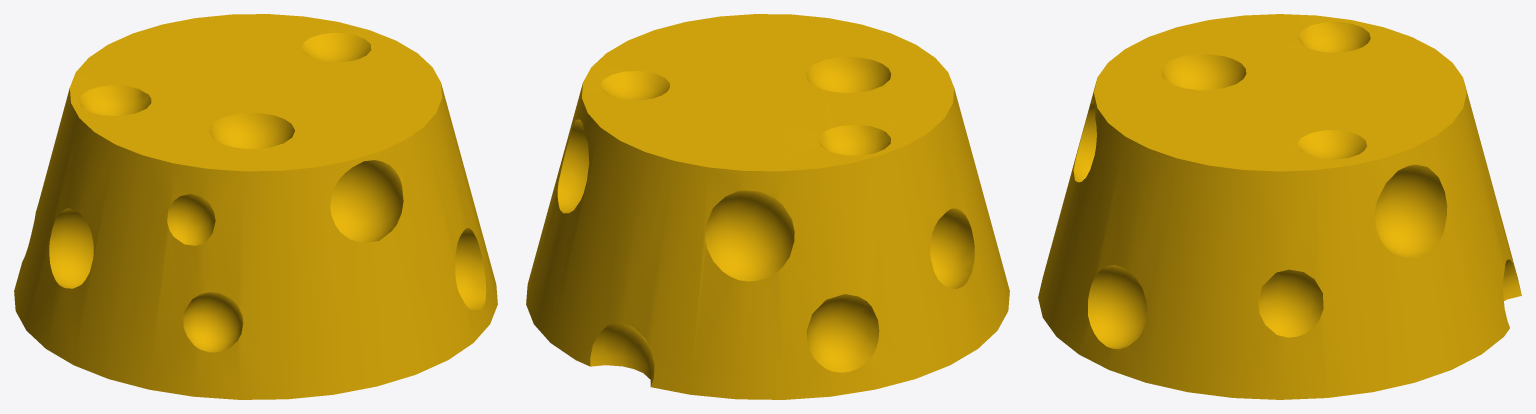
Rendered from Cheeze.fbx.
3 renders of one model, left to right at view 1: azimuth 30°, elevation 25°; view 2: azimuth 150°, elevation 25°; view 3: azimuth 270°, elevation 25°, orthographic.
Visible parts, largest first — view 1: Swiss Cheese_Swiss Cheese Color_0; view 2: Swiss Cheese_Swiss Cheese Color_0; view 3: Swiss Cheese_Swiss Cheese Color_0.
Part boxes in pixels (<box>): Swiss Cheese_Swiss Cheese Color_0: <box>14,14,497,399</box>; Swiss Cheese_Swiss Cheese Color_0: <box>526,14,1009,399</box>; Swiss Cheese_Swiss Cheese Color_0: <box>1038,14,1521,399</box>.
Bounding box in the file's own units: 0.2891 × 0.1349 × 0.2888.
